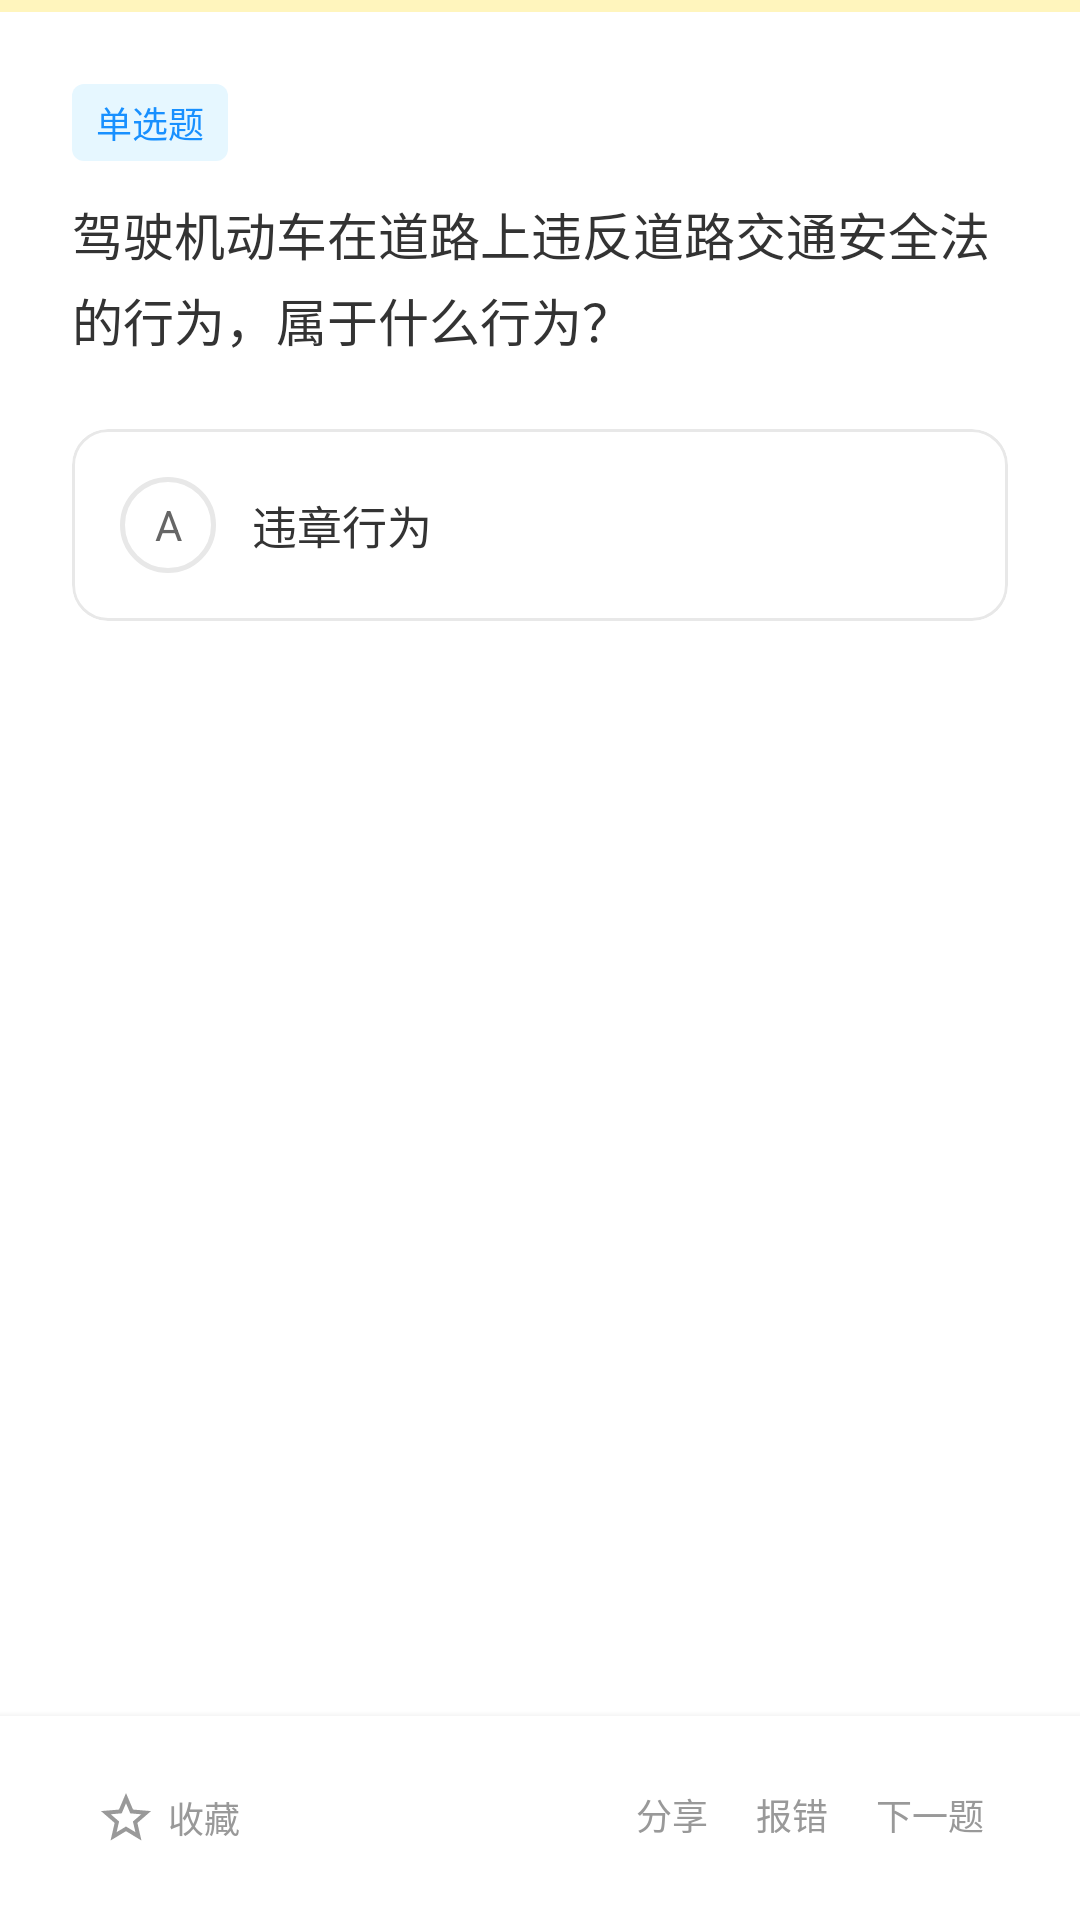

Icons on this 1080x1920 Android screen, each with the point to tap as [x,y]:
star: [126,1817]
